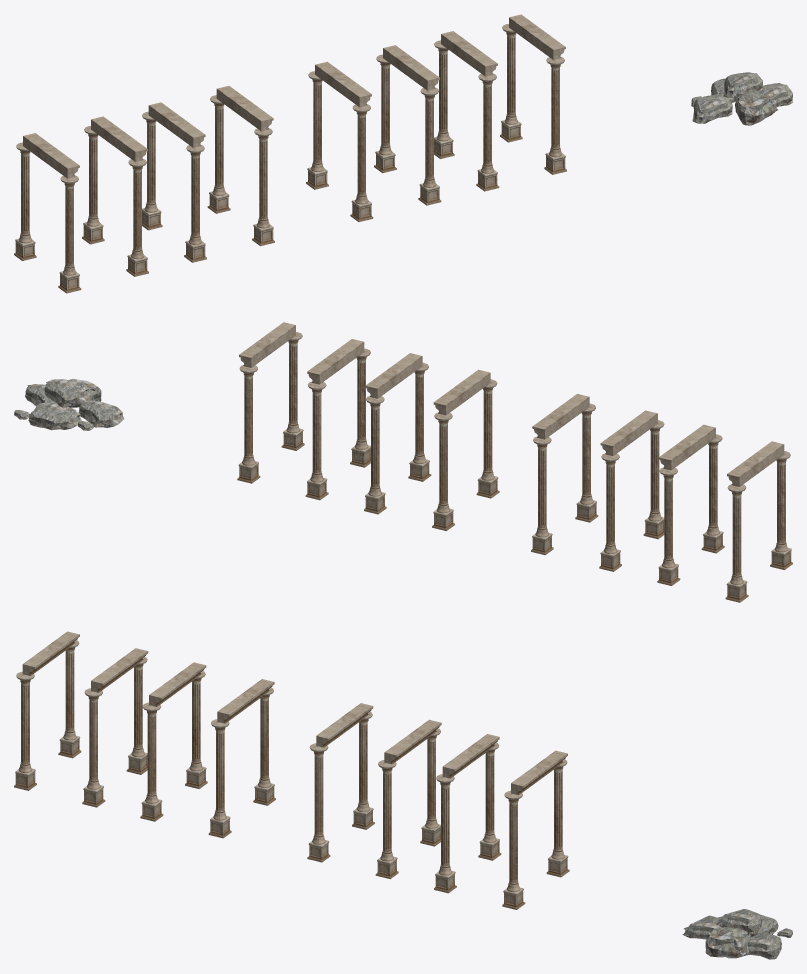
Rendered from cistern_environment.glb.
The picture shows the model from 3 angles, top to bottom: view 1: azimuth 30°, elevation 25°; view 2: azimuth 150°, elevation 25°; view 3: azimuth 330°, elevation 25°; orthographic projection.
Parts seen in each view (by area): view 1: Loft001.010, Loft001.009, Loft001, Loft001.004, Loft001.006, Loft001.007, Loft001.001, Loft001.003, Cube_002.4_5, Cube_001.3_3, Cube_001__2_.6_10, Cylinder004.003 (+16 smaller); view 2: Loft001.007, Loft001.001, Loft001.003, Cube.2_1, Loft001.009, Loft001.004, Loft001.006, Loft001.010, Loft001, Cube_001__2_.6_10, Cube_001.3_3, Cylinder004.001 (+15 smaller); view 3: Cube_002.4_5, Loft001.001, Loft001.003, Loft001.007, Loft001.009, Loft001.010, Loft001.004, Loft001.006, Loft001, Cylinder004.007, Cylinder003.010, Cylinder004.001 (+16 smaller).
Boxes of the visible parts, x1,y1,x2,y2 form: Loft001.010: [148, 102, 205, 147]; Loft001.009: [216, 86, 273, 131]; Loft001: [509, 14, 565, 59]; Loft001.004: [315, 61, 371, 107]; Loft001.006: [91, 116, 147, 161]; Loft001.007: [23, 133, 79, 178]; Loft001.001: [441, 31, 497, 76]; Loft001.003: [383, 45, 439, 90]; Cube_002.4_5: [735, 90, 777, 125]; Cube_001.3_3: [692, 94, 732, 123]; Cube_001__2_.6_10: [723, 72, 762, 97]; Cylinder004.003: [381, 66, 389, 146]; Loft001.007: [727, 441, 784, 486]; Loft001.001: [307, 339, 364, 384]; Loft001.003: [365, 353, 422, 398]; Cube.2_1: [28, 402, 81, 430]; Loft001.009: [532, 394, 589, 439]; Loft001.004: [433, 369, 490, 415]; Loft001.006: [658, 424, 715, 470]; Loft001.010: [600, 410, 657, 455]; Loft001: [239, 322, 295, 367]; Cube_001__2_.6_10: [44, 379, 90, 407]; Cube_001.3_3: [78, 400, 124, 427]; Cylinder004.001: [312, 392, 321, 473]; Cube_002.4_5: [705, 927, 750, 958]; Loft001.001: [442, 734, 499, 778]; Loft001.003: [384, 719, 441, 764]; Loft001.007: [22, 631, 79, 675]; Loft001.009: [217, 679, 274, 723]; Loft001.010: [149, 662, 206, 706]; Loft001.004: [316, 703, 373, 747]; Loft001.006: [91, 648, 148, 692]; Loft001: [511, 750, 567, 795]; Cylinder004.007: [65, 650, 74, 731]; Cylinder003.010: [147, 714, 156, 794]; Cylinder004.001: [485, 753, 494, 833].
Bounding box in the file's own units: 682 × 111 × 84.94.
Materials: 212 (212 with a texture image).
